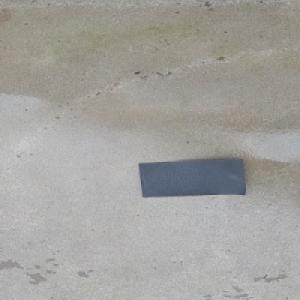PaintChip: (137, 158, 246, 198)
